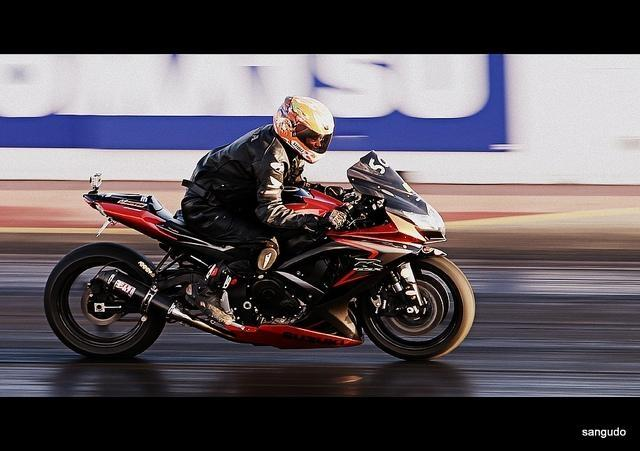motorcycle: (42, 150, 476, 361)
